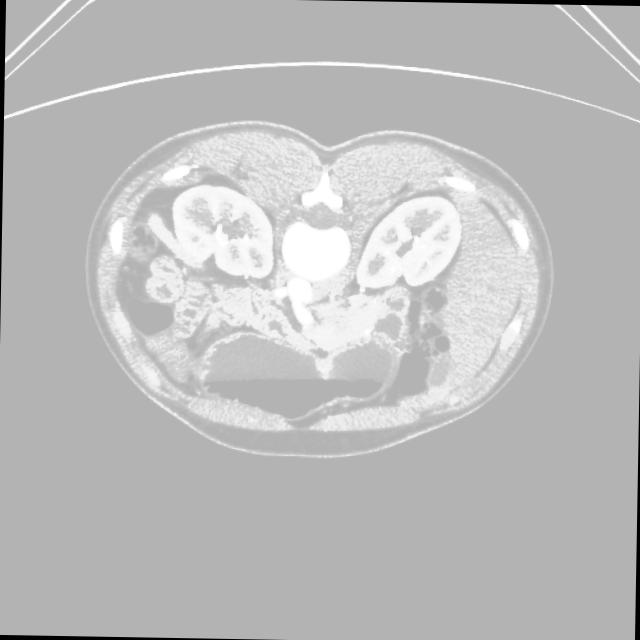NORMAL: (40, 121, 587, 471)
